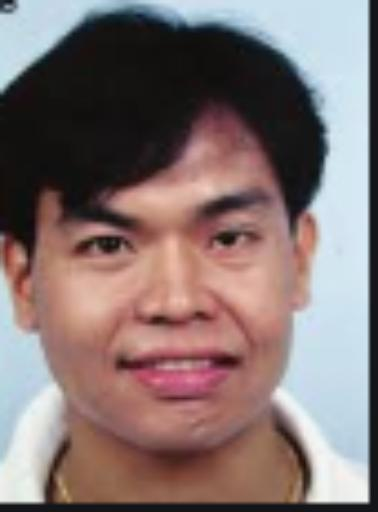left_eye: (202, 225, 267, 255)
left_lip_corner: (222, 347, 254, 379)
right_eye: (66, 231, 143, 263)
right_lip_corner: (108, 352, 140, 381)
